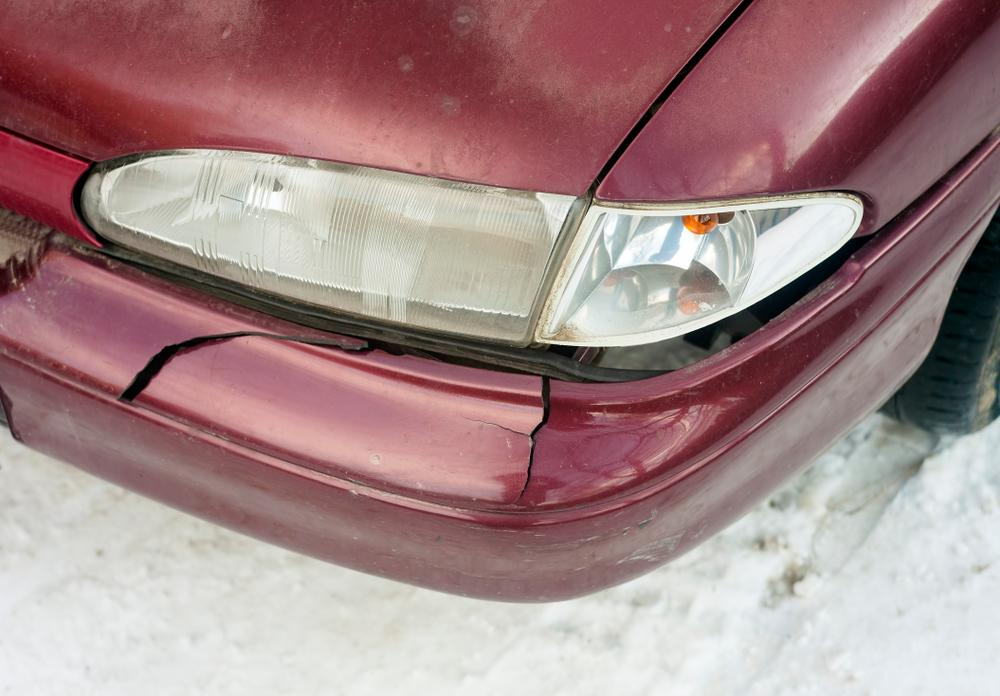crack: (118, 329, 376, 402), (456, 378, 551, 508)
scratch: (564, 511, 706, 570)
